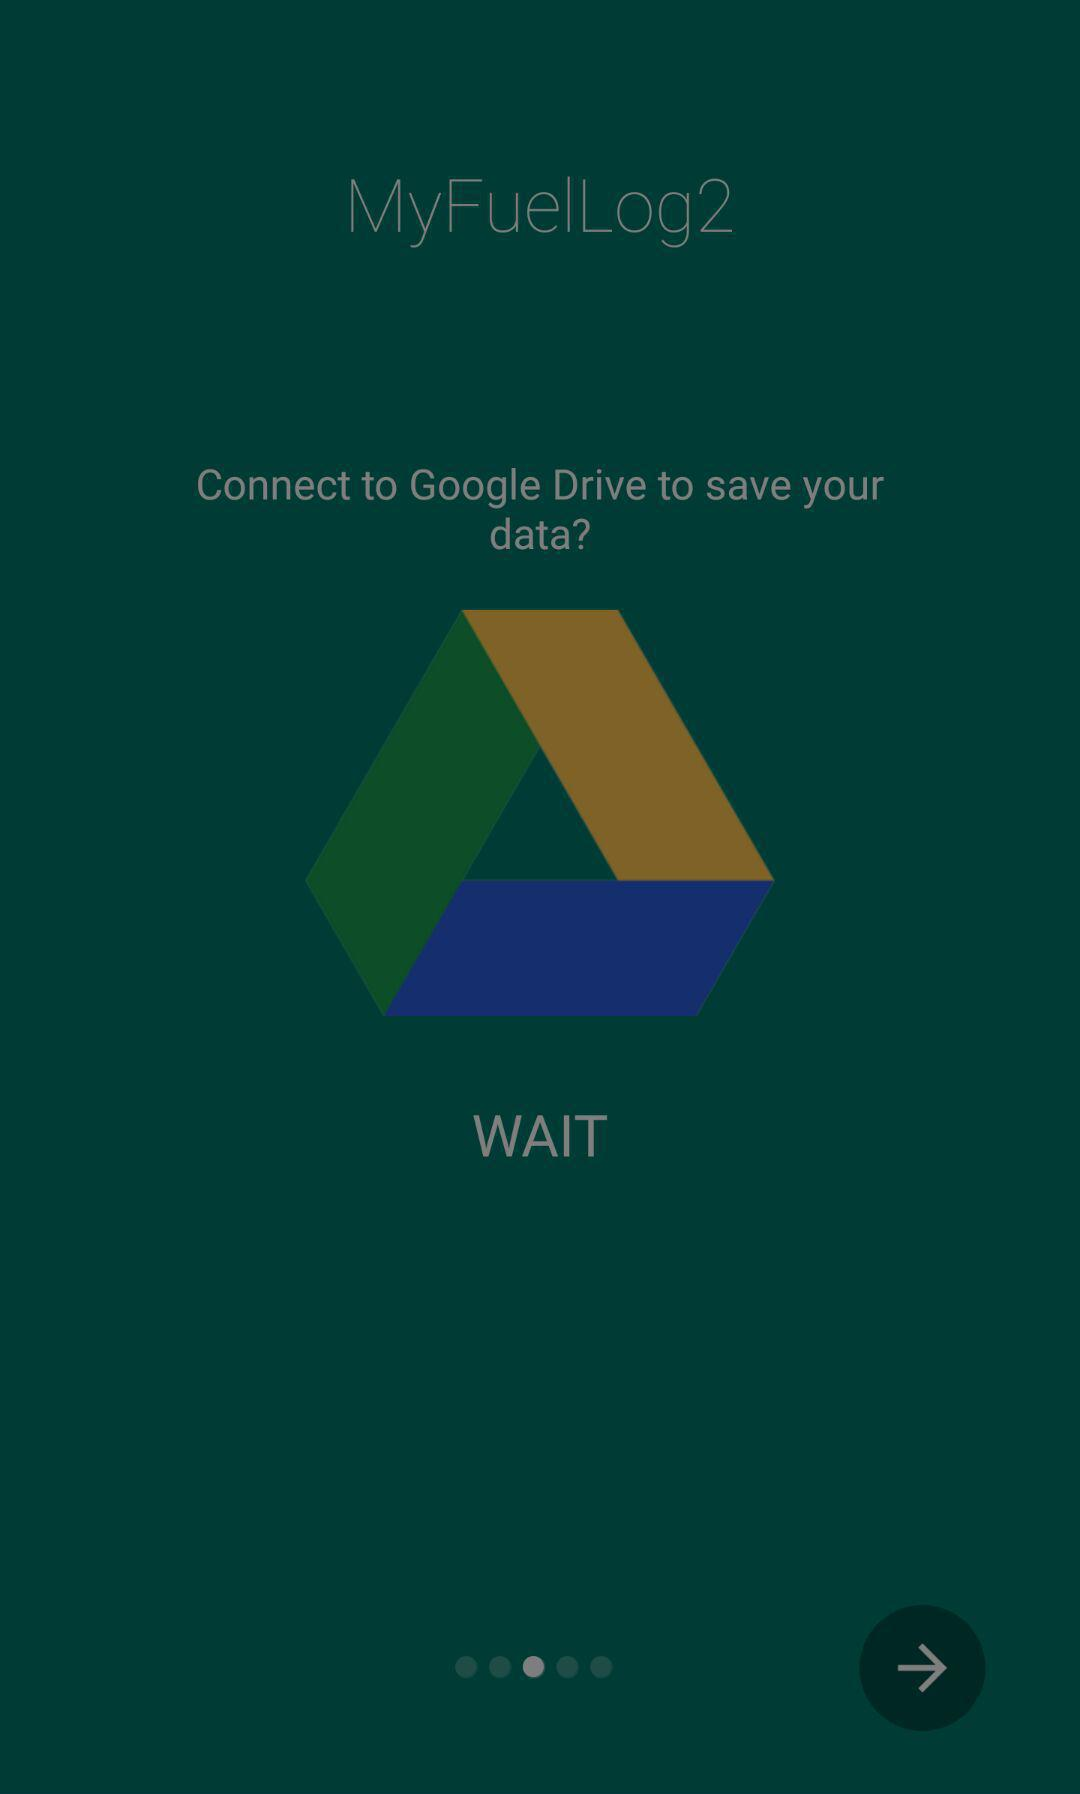Icon: (858, 1604, 986, 1732)
Image: (306, 610, 776, 1019)
PageIndicator: (454, 1654, 615, 1681)
Text: (197, 466, 888, 555), (348, 176, 735, 252), (471, 1114, 610, 1161)
